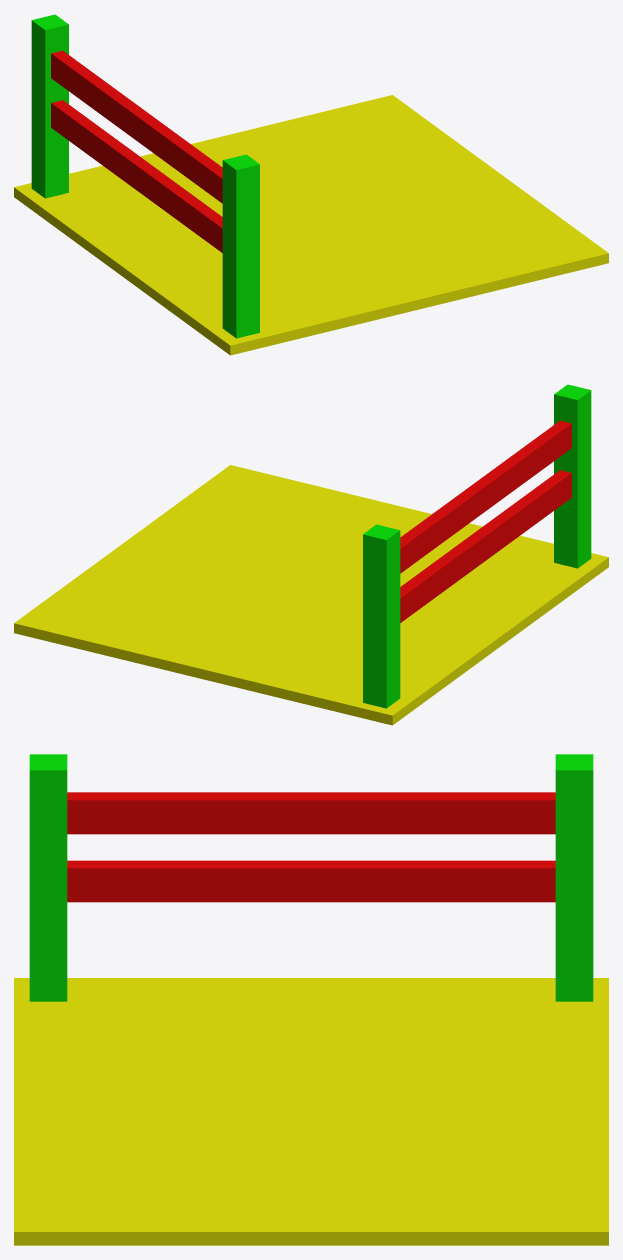
File: WalkwayG_SM.fbx
3 views of the same model, one above another, from view 1: azimuth 30°, elevation 25°; view 2: azimuth 150°, elevation 25°; view 3: azimuth 270°, elevation 25° (orthographic). The views are drawn at different scales.
Visible parts, largest first — view 1: polySurface29; view 2: polySurface29; view 3: polySurface29.
Part boxes in pixels (<box>): polySurface29: <box>14,14,608,355</box>; polySurface29: <box>14,384,608,725</box>; polySurface29: <box>14,754,608,1245</box>.
Bounding box in the file's own units: 8 × 3.6 × 7.92.
